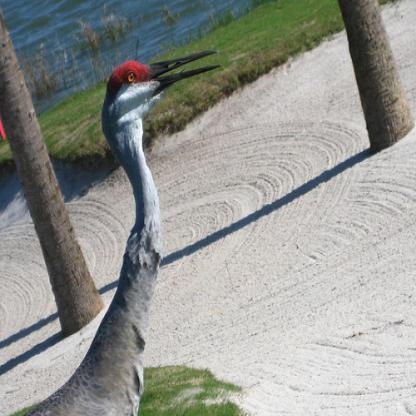bird: (22, 49, 221, 415)
